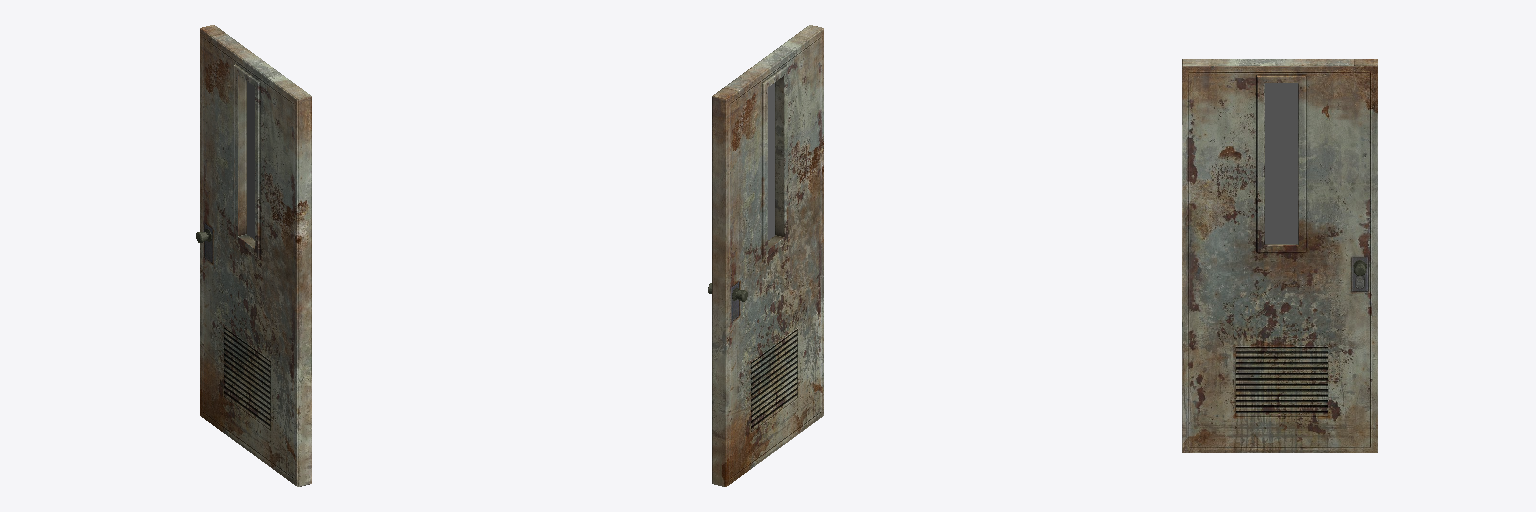
3 views of the same model, side by side, from view 1: azimuth 30°, elevation 25°; view 2: azimuth 150°, elevation 25°; view 3: azimuth 270°, elevation 25° (orthographic).
Visible parts, largest first — view 1: usa3; view 2: usa3; view 3: usa3.
Boxes of the visible parts, x1=… form: usa3: x1=196, y1=25, x2=311, y2=486; usa3: x1=708, y1=25, x2=823, y2=486; usa3: x1=1182, y1=59, x2=1377, y2=452.
Bounding box in the file's own units: 0.233 × 2.44 × 1.12.
3 materials, 1 textured.